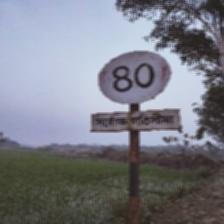Speed-limit: (93, 48, 178, 132)
